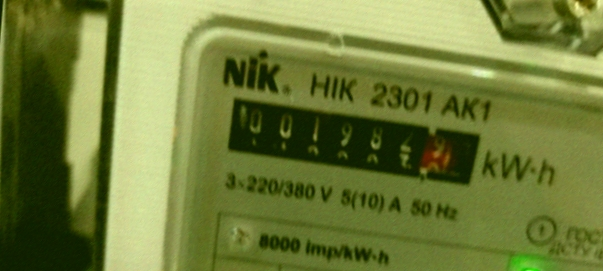0: (276, 110, 295, 141), (246, 105, 265, 135)
1: (308, 113, 322, 143)
2: (397, 124, 418, 154)
8: (367, 122, 386, 151)
9: (428, 132, 450, 162), (337, 119, 354, 149)
screen: (209, 82, 497, 201)
